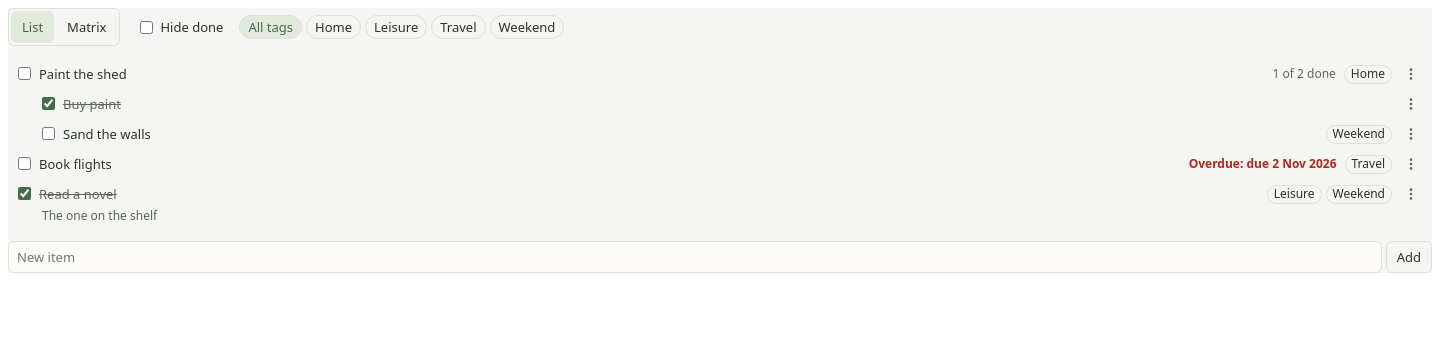
the Eisenhower matrix › switches between the list and the matrix, each with its own Hide done
The width and height of the screenshot is (1440, 344).
Click the button "Matrix": [87, 27] box left=56, top=11, right=118, bottom=43
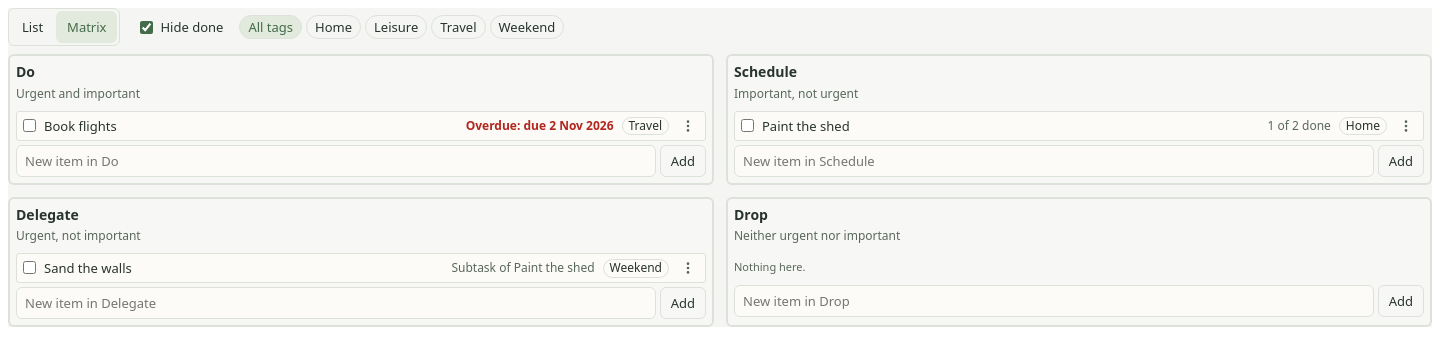
Result: the button "Matrix" is pressed at left=56, top=11, right=118, bottom=43
Click the button "List": [33, 27] box left=11, top=11, right=54, bottom=43
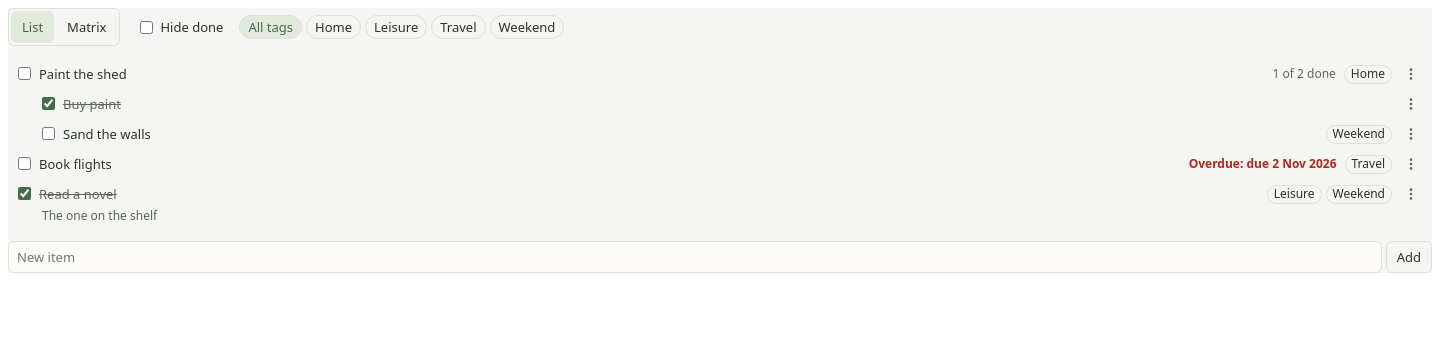
Result: the switch labelled "Hide done" is not checked at left=140, top=21, right=154, bottom=34
